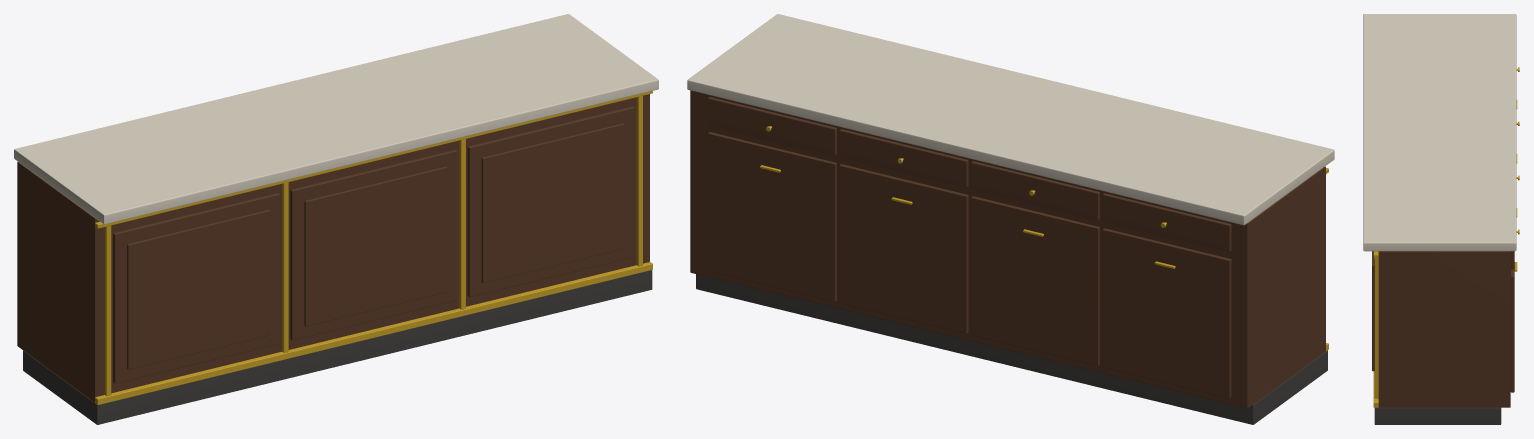
Rendered from prop_counter_teller.glb.
3 renders of one model, left to right at view 1: azimuth 30°, elevation 25°; view 2: azimuth 150°, elevation 25°; view 3: azimuth 270°, elevation 25°, orthographic. The views are drawn at different scales.
Parts seen in each view (by area): view 1: Counter; view 2: Counter; view 3: Counter.
Part boxes in pixels (left/top/right/bottom): Counter: left=14, top=14, right=658, bottom=424; Counter: left=687, top=14, right=1334, bottom=424; Counter: left=1363, top=14, right=1519, bottom=424.
Size of what is drawn, in the model's own units: 2.83 by 1.05 by 0.817.
